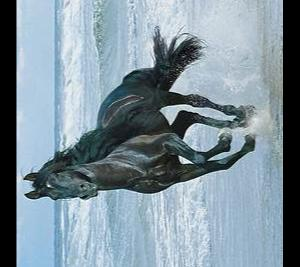horse: (21, 24, 256, 200)
